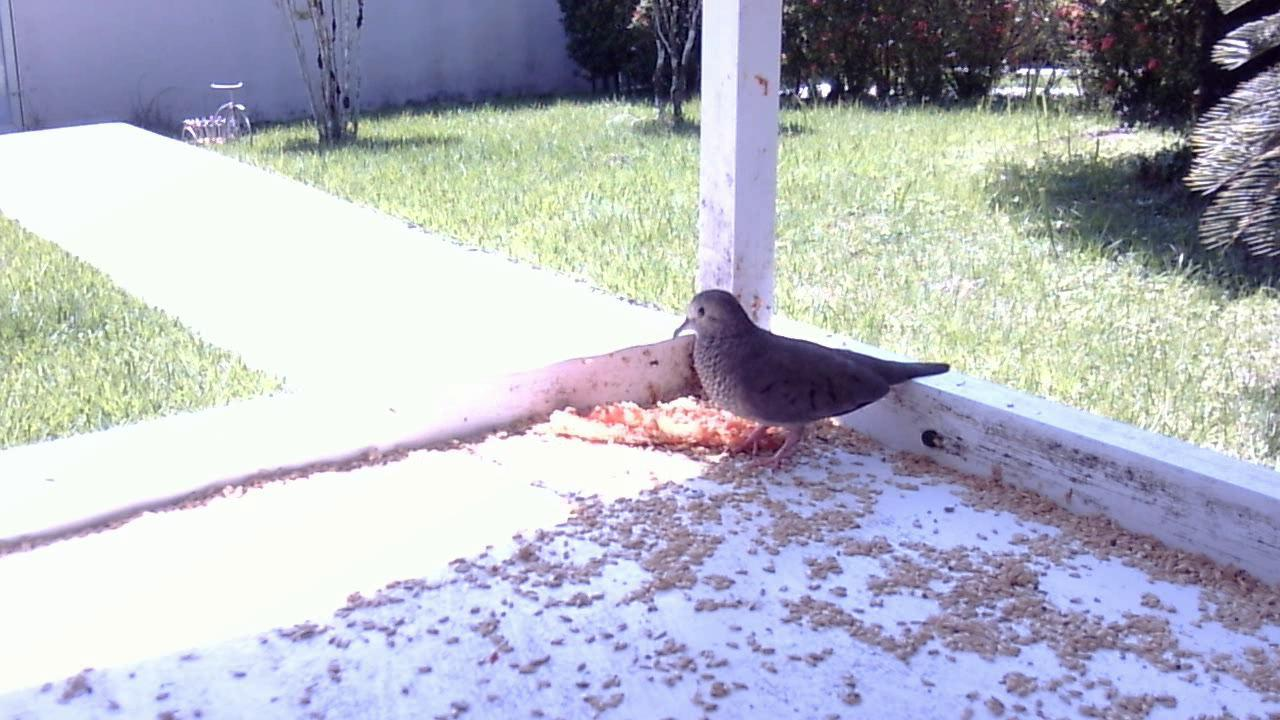rolinha: (676, 288, 953, 472)
